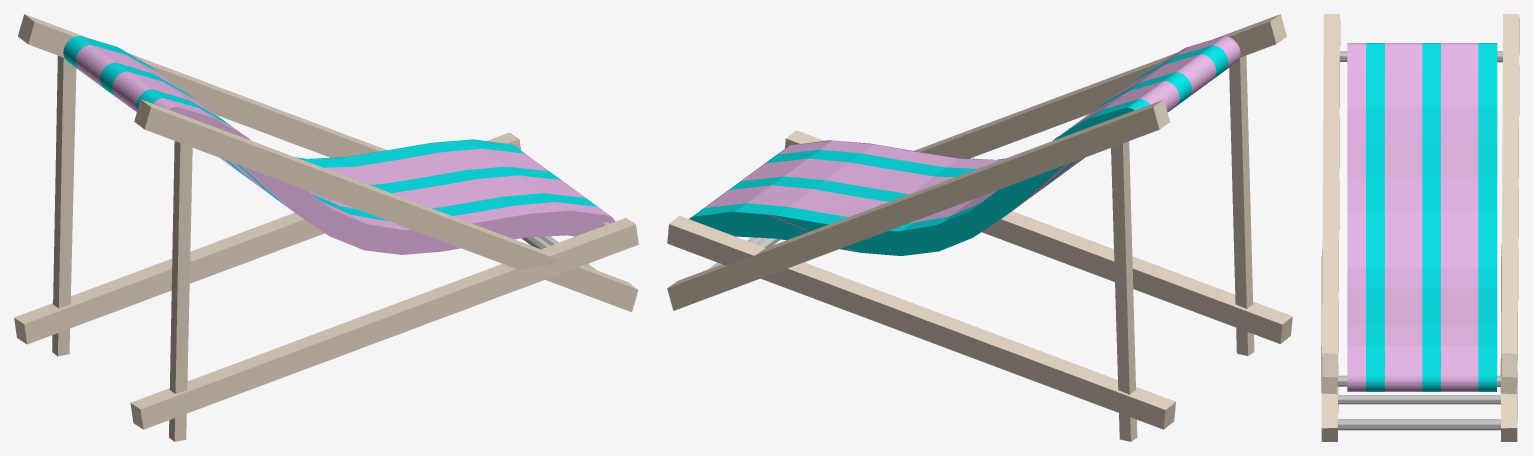
Rendered from Cadeira3.fbx.
The picture shows the model from 3 angles, left to right: view 1: azimuth 30°, elevation 25°; view 2: azimuth 150°, elevation 25°; view 3: azimuth 270°, elevation 25°; orthographic projection. The views are drawn at different scales.
Parts seen in each view (by area): view 1: Cylinder.003; view 2: Cylinder.003; view 3: Cylinder.003.
Part boxes in pixels (x1,y1,x2,y2): Cylinder.003: (14,14,638,441); Cylinder.003: (667,14,1292,441); Cylinder.003: (1321,14,1519,441).
Size of the model in its own units: 488 by 321 by 219.
